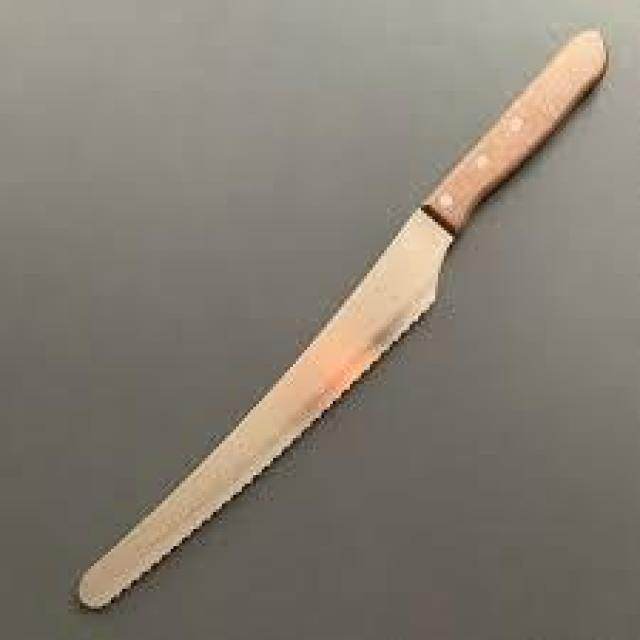Knife: (33, 14, 640, 625)
